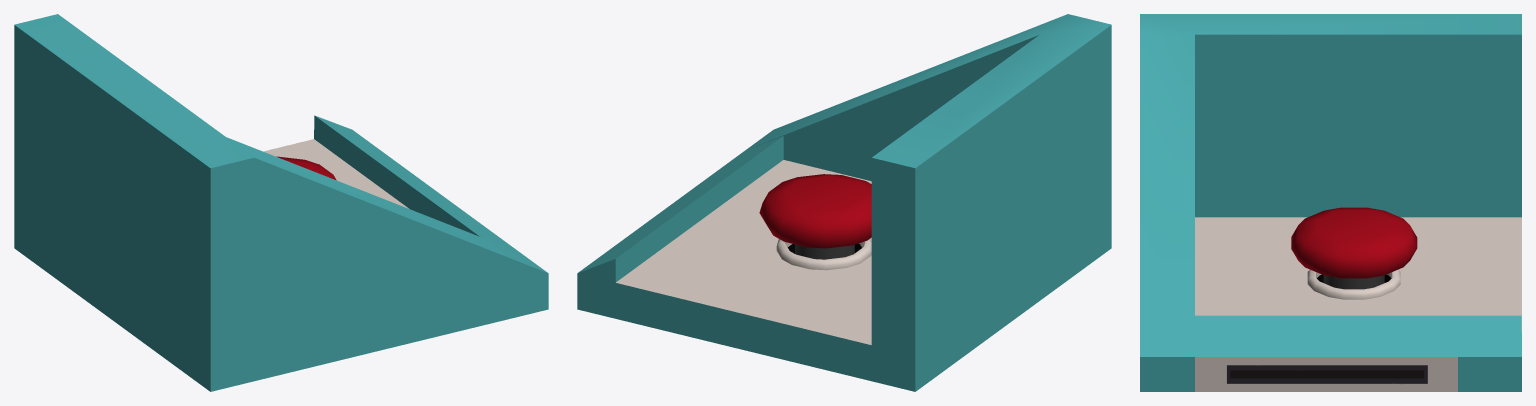
Rendered from surveillance_button_on.glb.
3 renders of one model, left to right at view 1: azimuth 30°, elevation 25°; view 2: azimuth 150°, elevation 25°; view 3: azimuth 270°, elevation 25°, orthographic. The views are drawn at different scales.
Visible parts, largest first — view 1: surveillance_button_on; view 2: surveillance_button_on; view 3: surveillance_button_on.
Part boxes in pixels (x1=…): surveillance_button_on: x1=14, y1=14, x2=548, y2=391; surveillance_button_on: x1=577, y1=14, x2=1111, y2=391; surveillance_button_on: x1=1140, y1=14, x2=1521, y2=391.
Size of the model in its own units: 0.6257 by 0.3952 by 0.629.
Materials: 5 (1 with a texture image).
